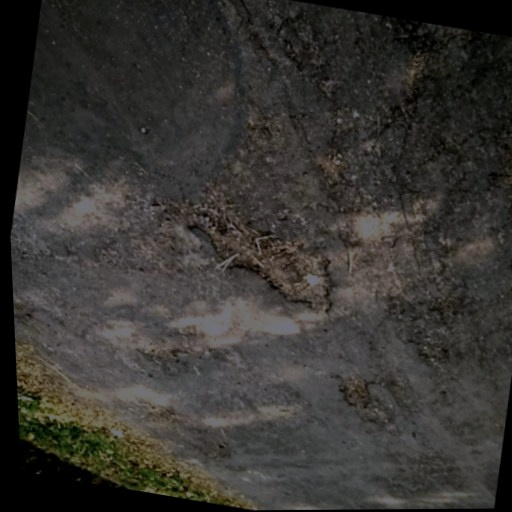pothole: (161, 198, 348, 321), (330, 373, 397, 428), (13, 300, 35, 323)
